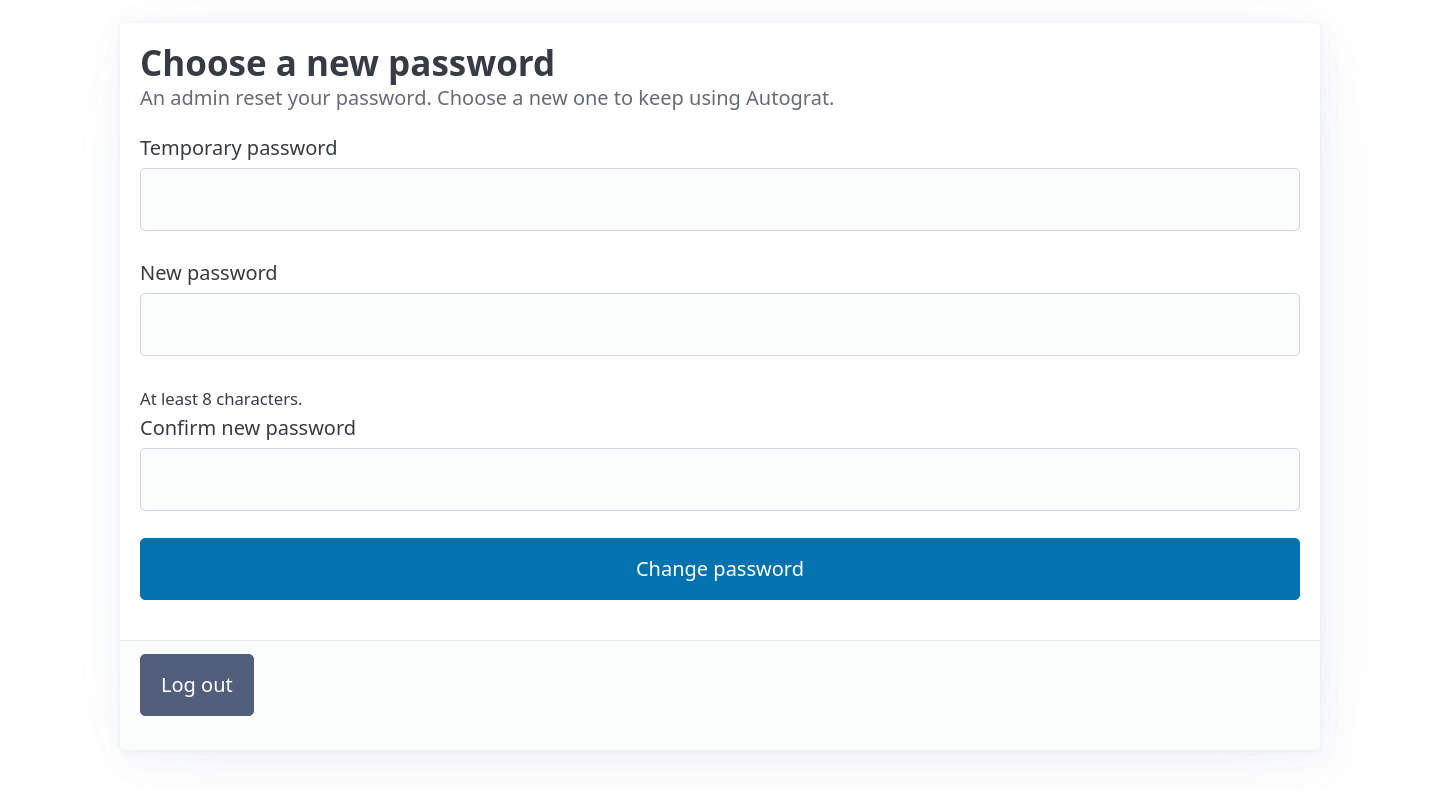
Test case: App › logs out from the choose a new password page
The width and height of the screenshot is (1440, 790).
(page scrolled)
Click the button "Log out".
click(197, 685)  # box [140,654,254,716]
(page scrolled)
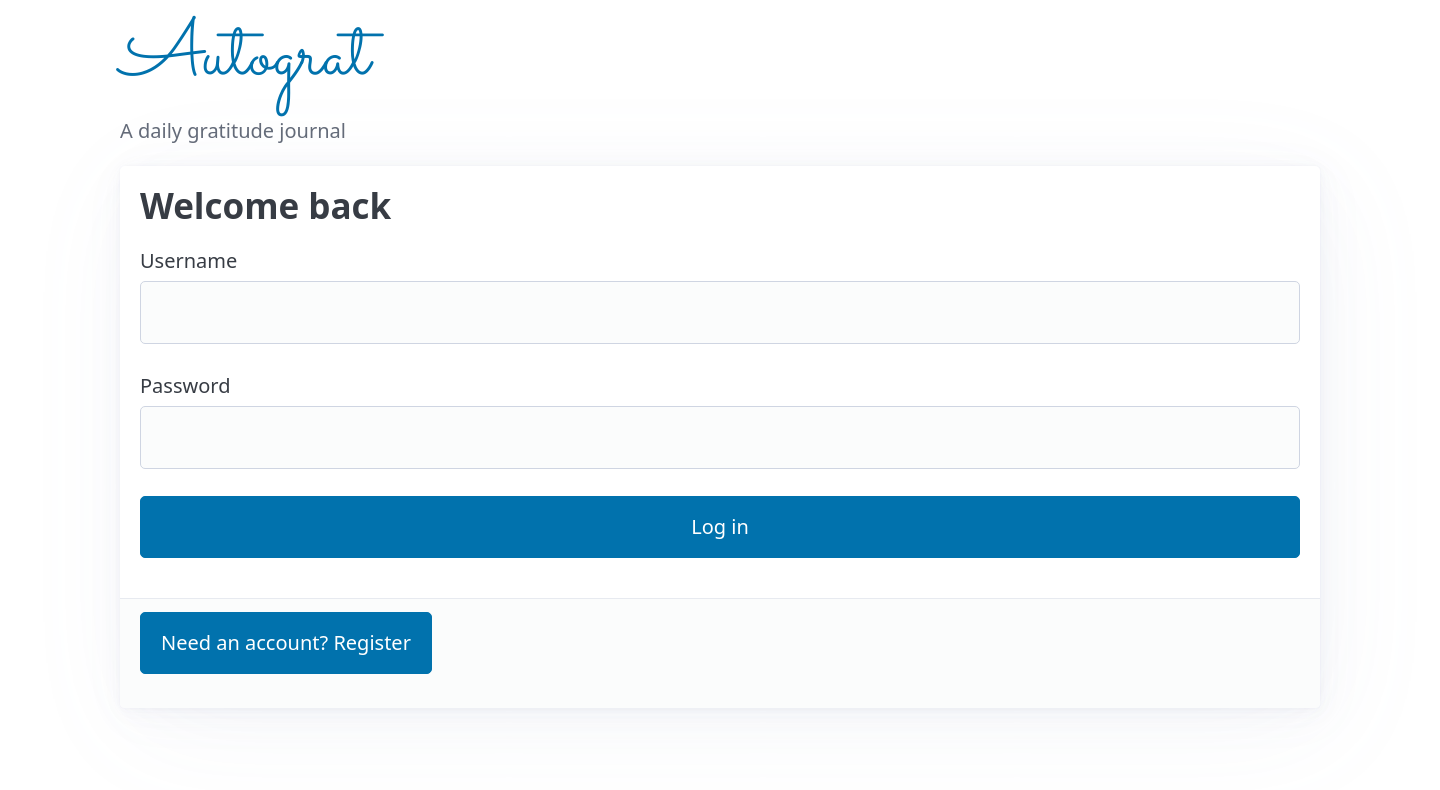
expect the button "Log in" is shown: met, box [140,496,1300,558]
